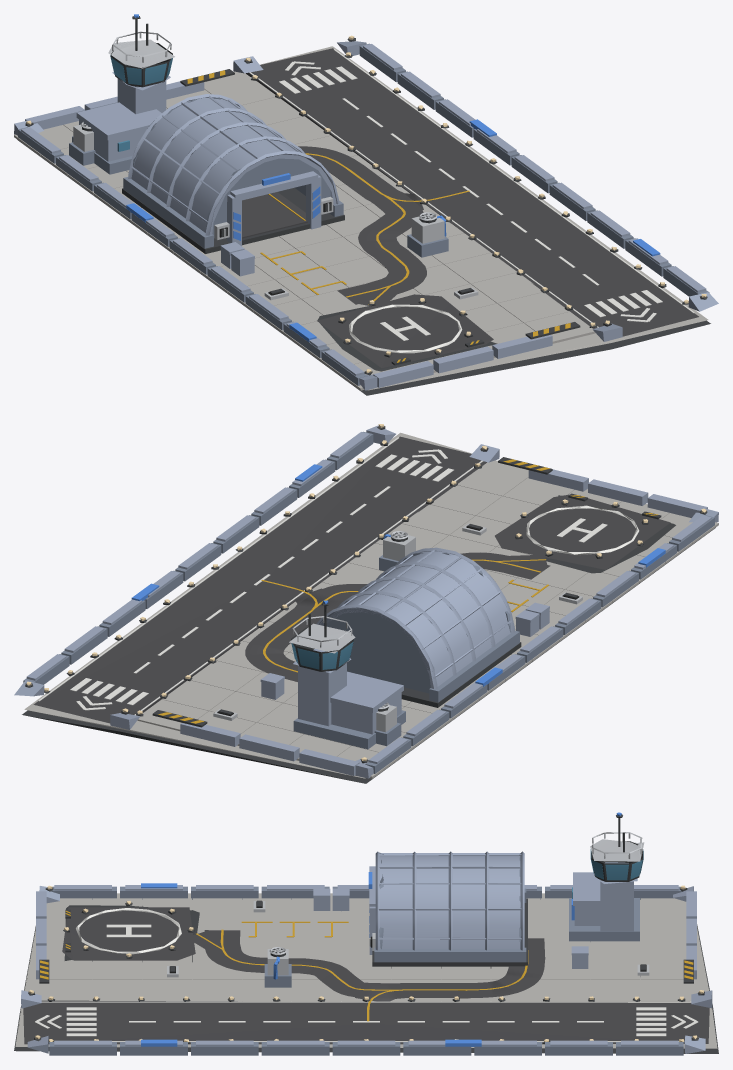
The model's file is helipad.glb.
3 views of the same model, one above another, from view 1: azimuth 30°, elevation 25°; view 2: azimuth 150°, elevation 25°; view 3: azimuth 270°, elevation 25° (orthographic). The views are drawn at different scales.
Parts seen in each view (by area): view 1: Base; view 2: Base; view 3: Base.
Part boxes in pixels (x1,y1,x2,y2): Base: (14,14,718,395); Base: (14,424,718,783); Base: (14,812,718,1055).
Size of the model in its own units: 15.48 by 5.75 by 28.76.
